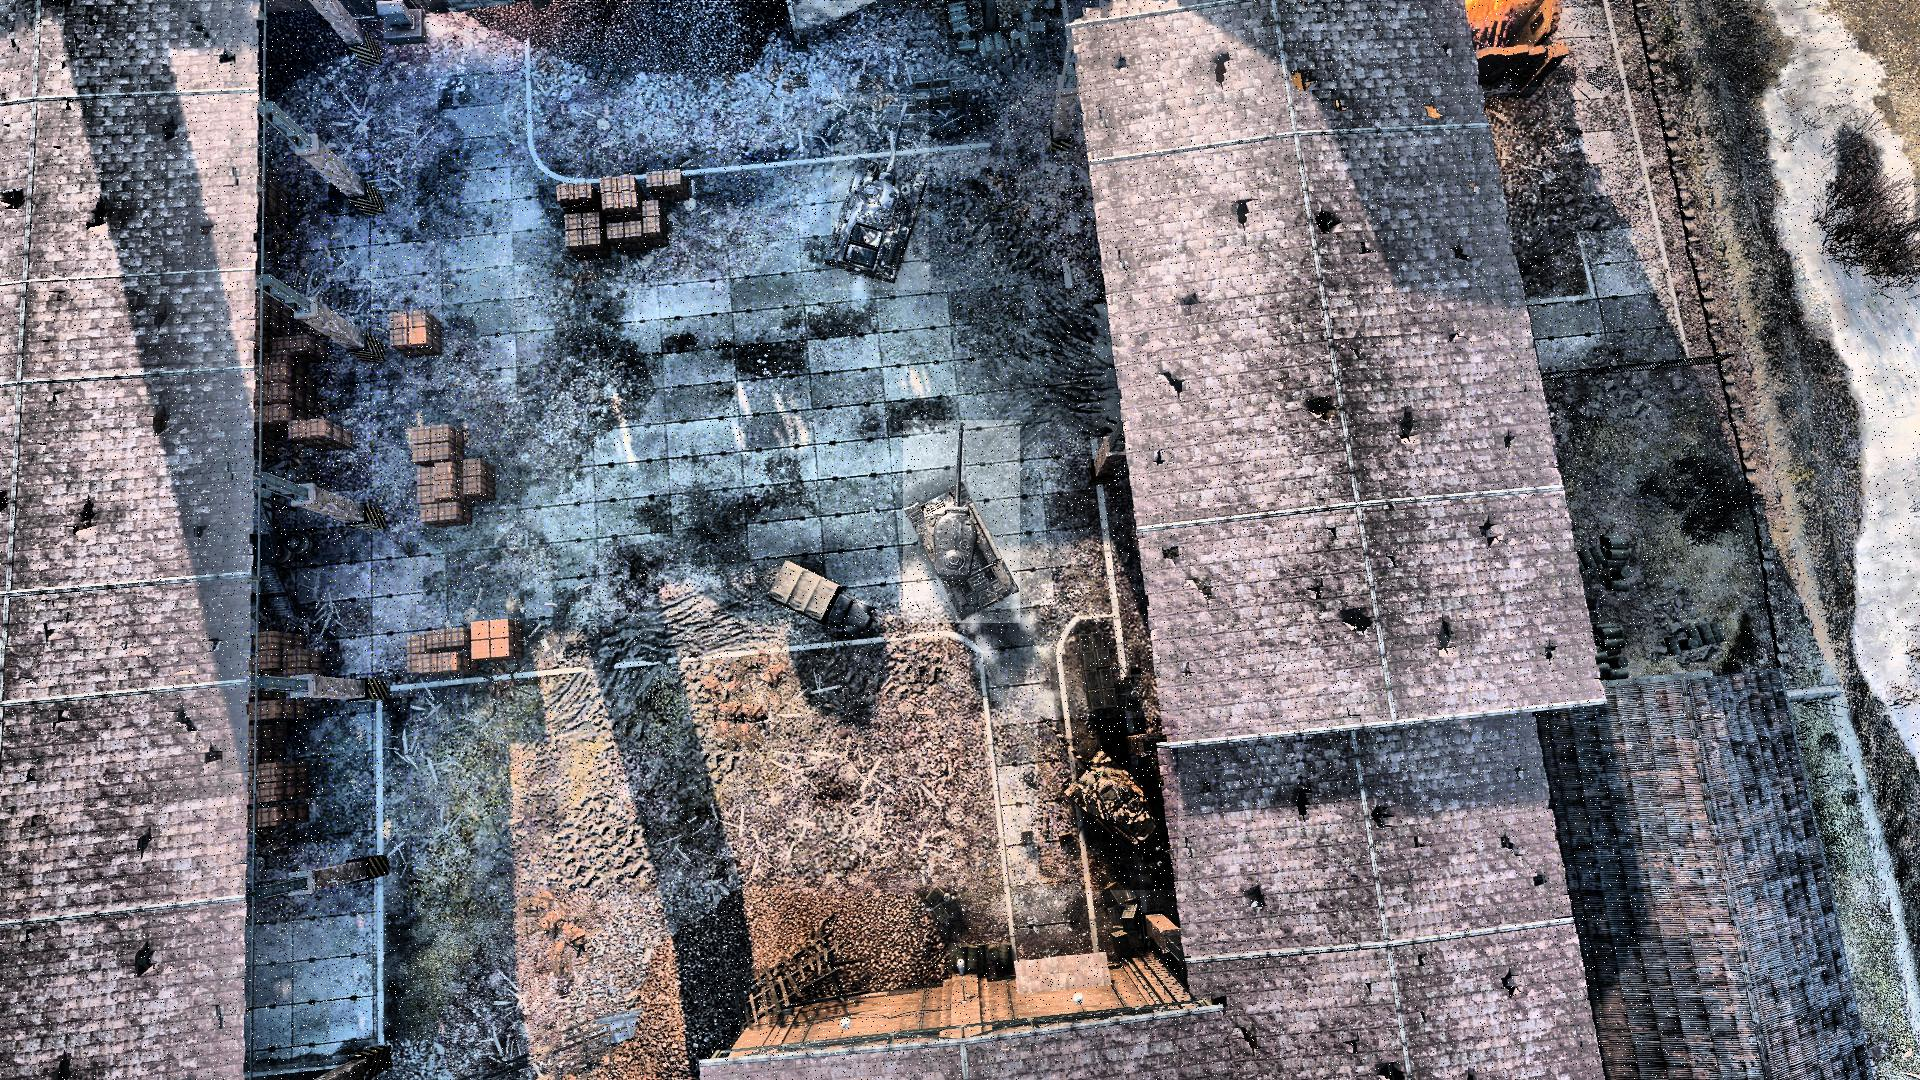military-vehicle: (1038, 719, 1179, 890), (903, 421, 1021, 624), (832, 94, 930, 290)
